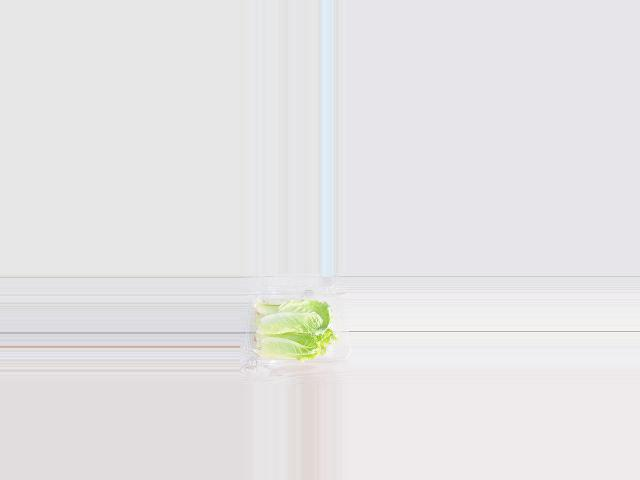lettuce: (257, 299, 337, 361)
